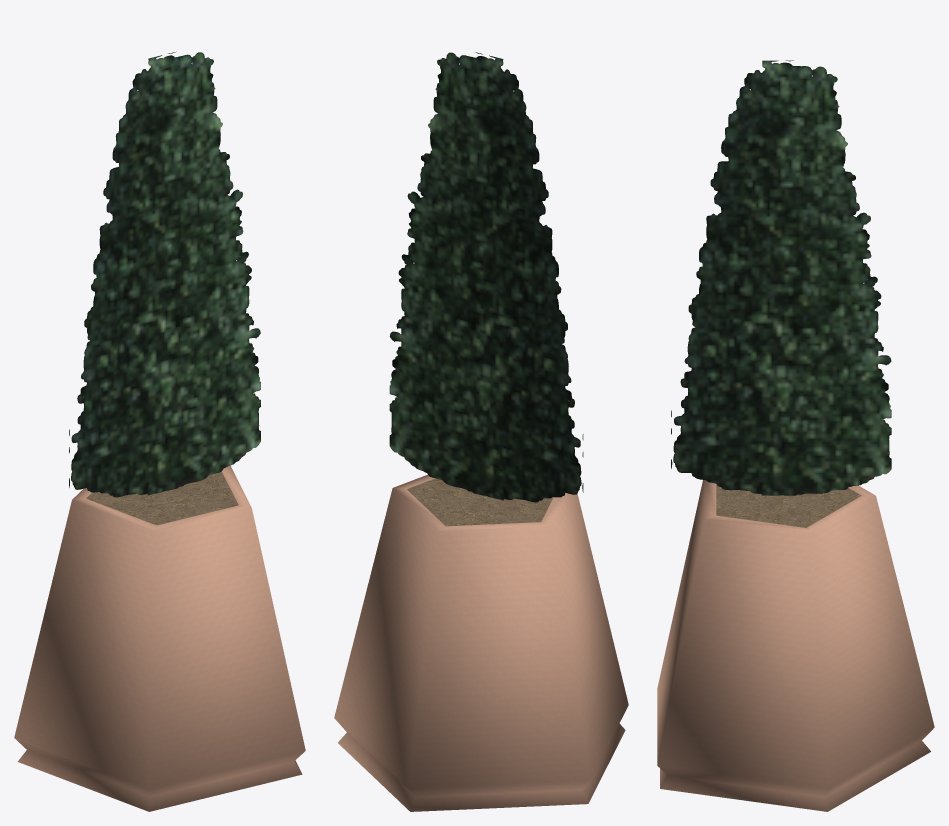
Rendered from Vase2.glb.
The picture shows the model from 3 angles, left to right: view 1: azimuth 30°, elevation 25°; view 2: azimuth 150°, elevation 25°; view 3: azimuth 270°, elevation 25°; orthographic projection.
Visible parts, largest first — view 1: Cone, Plane, Cone.001; view 2: Cone, Plane, Cone.001; view 3: Plane.001, Cone, Cone.001.
Part boxes in pixels (box(x1,y1,x2,y2)): Cone: box(14, 465, 305, 811); Plane: box(69, 51, 260, 497); Cone.001: box(86, 471, 238, 525); Cone: box(334, 474, 628, 811); Plane: box(389, 52, 583, 502); Cone.001: box(407, 478, 553, 526); Plane.001: box(671, 60, 891, 495); Cone: box(657, 480, 934, 811); Cone.001: box(716, 484, 861, 527).
Size of the model in its own units: 0.4164 by 1.09 by 0.396.
4 materials, 4 textured.
